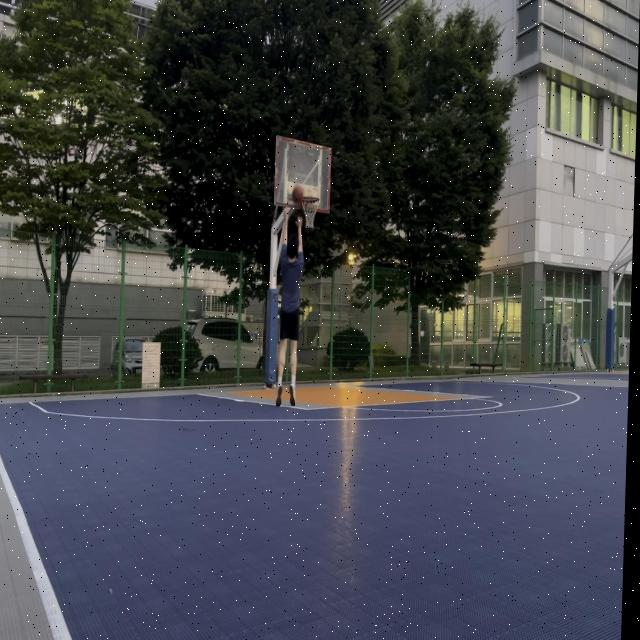basketball: (291, 184, 304, 204)
hoop: (301, 196, 320, 229)
